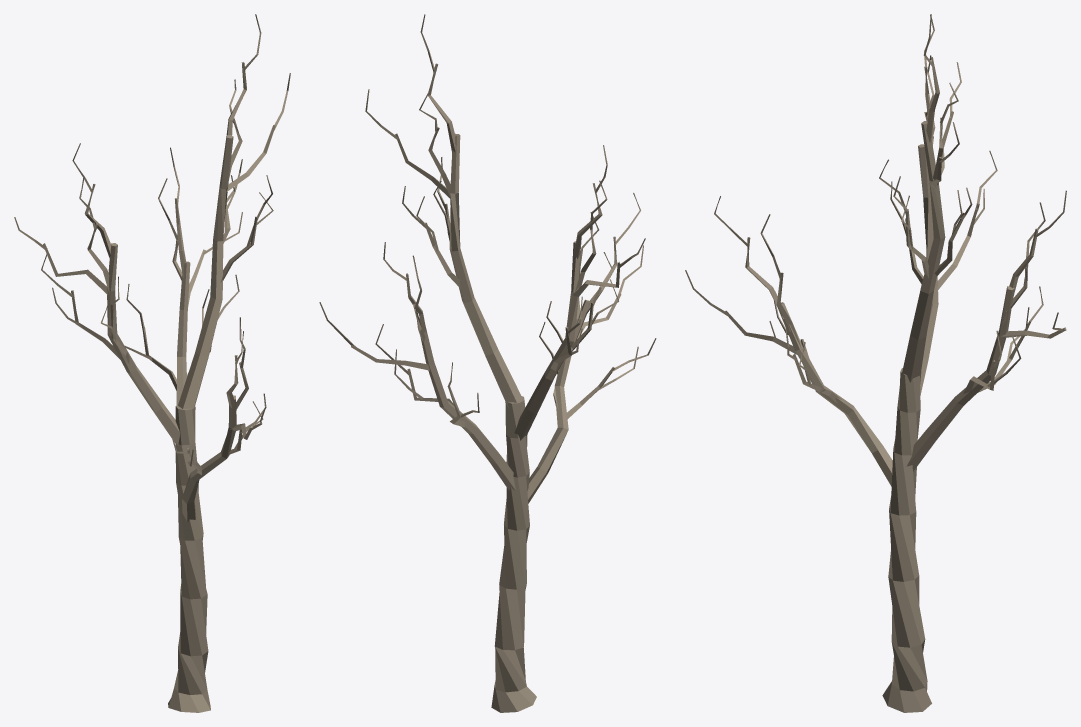
The model's file is tree_ash_bare.glb.
3 renders of one model, left to right at view 1: azimuth 30°, elevation 25°; view 2: azimuth 150°, elevation 25°; view 3: azimuth 270°, elevation 25°, orthographic. The views are drawn at different scales.
Parts seen in each view (by area): view 1: tree_ash_bare; view 2: tree_ash_bare; view 3: tree_ash_bare.
Boxes of the visible parts, x1,y1,x2,y2 form: tree_ash_bare: (14, 14, 290, 712); tree_ash_bare: (319, 14, 656, 712); tree_ash_bare: (685, 14, 1066, 712).
Bounding box in the file's own units: 6.01 × 14 × 6.63.
